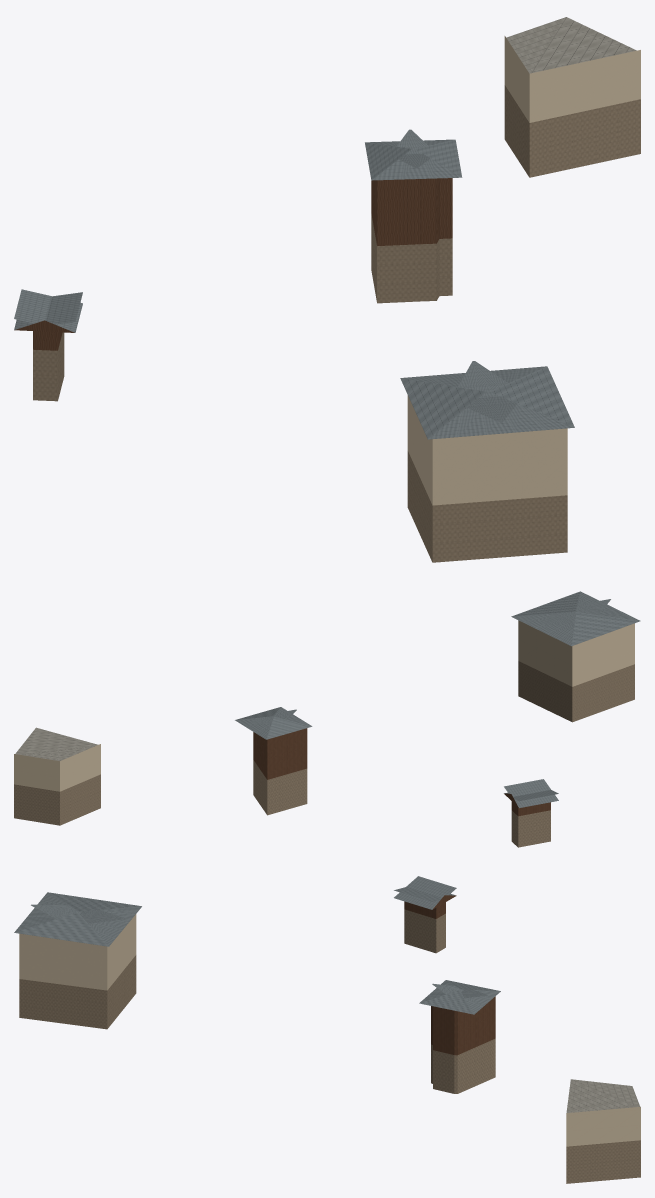
Rendered from bld_c21_44_384.gltf.
The picture shows the model from 3 angles, top to bottom: view 1: azimuth 30°, elevation 25°; view 2: azimuth 150°, elevation 25°; view 3: azimuth 270°, elevation 25°; orthographic projection. The views are drawn at different scales.
Parts seen in each view (by area): view 1: bld_c21_44_384; view 2: bld_c21_44_384; view 3: bld_c21_44_384.
Boxes of the visible parts, x1=… form: bld_c21_44_384: x1=14, y1=17, x2=640, y2=562; bld_c21_44_384: x1=14, y1=591, x2=640, y2=847; bld_c21_44_384: x1=14, y1=876, x2=640, y2=1183.
Size of the model in its own units: 68.64 by 13.4 by 74.59.
Materials: 7 (7 with a texture image).
